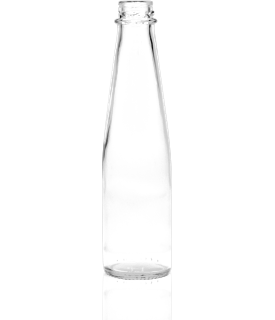glass_bottleww: (84, 1, 214, 299)
